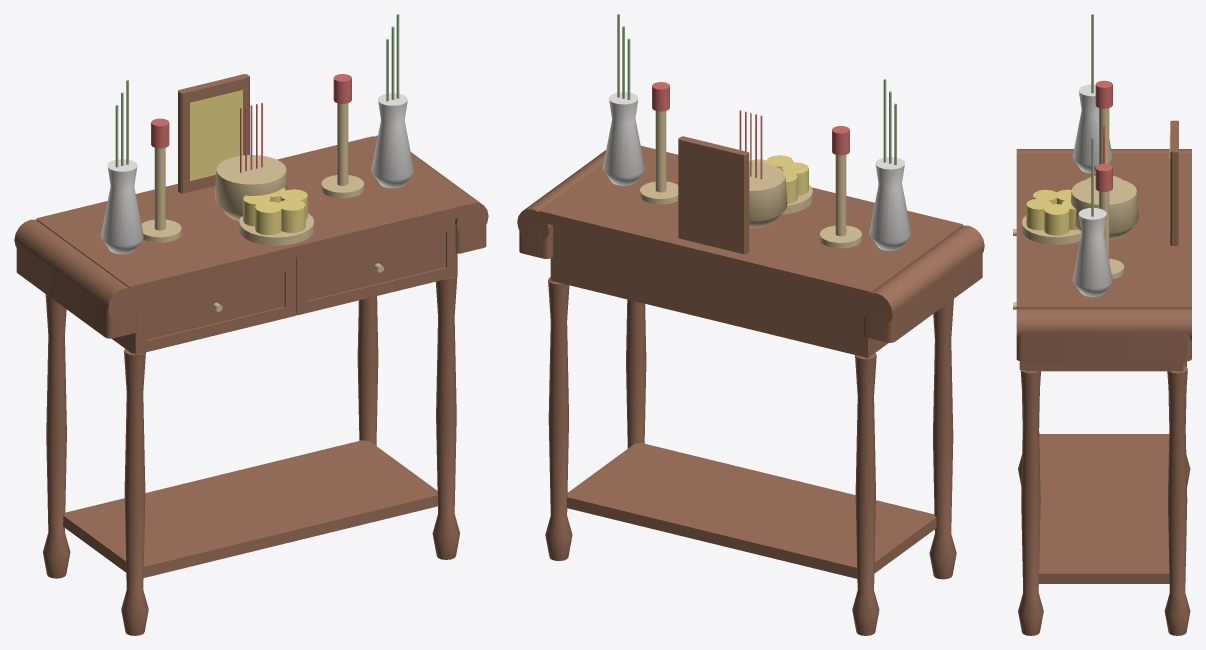
3 renders of one model, left to right at view 1: azimuth 30°, elevation 25°; view 2: azimuth 150°, elevation 25°; view 3: azimuth 270°, elevation 25°, orthographic. The views are drawn at different scales.
Visible parts, largest first — view 1: Bàn thờ Dài=1270; Sâu=610; view 2: Bàn thờ Dài=1270; Sâu=610; view 3: Bàn thờ Dài=1270; Sâu=610.
Boxes of the visible parts, x1,y1,x2,y2 form: Bàn thờ Dài=1270; Sâu=610: (14,14,488,635); Bàn thờ Dài=1270; Sâu=610: (517,14,984,635); Bàn thờ Dài=1270; Sâu=610: (1013,14,1191,635).
Size of the model in its own units: 1.43 by 1.87 by 0.622.
